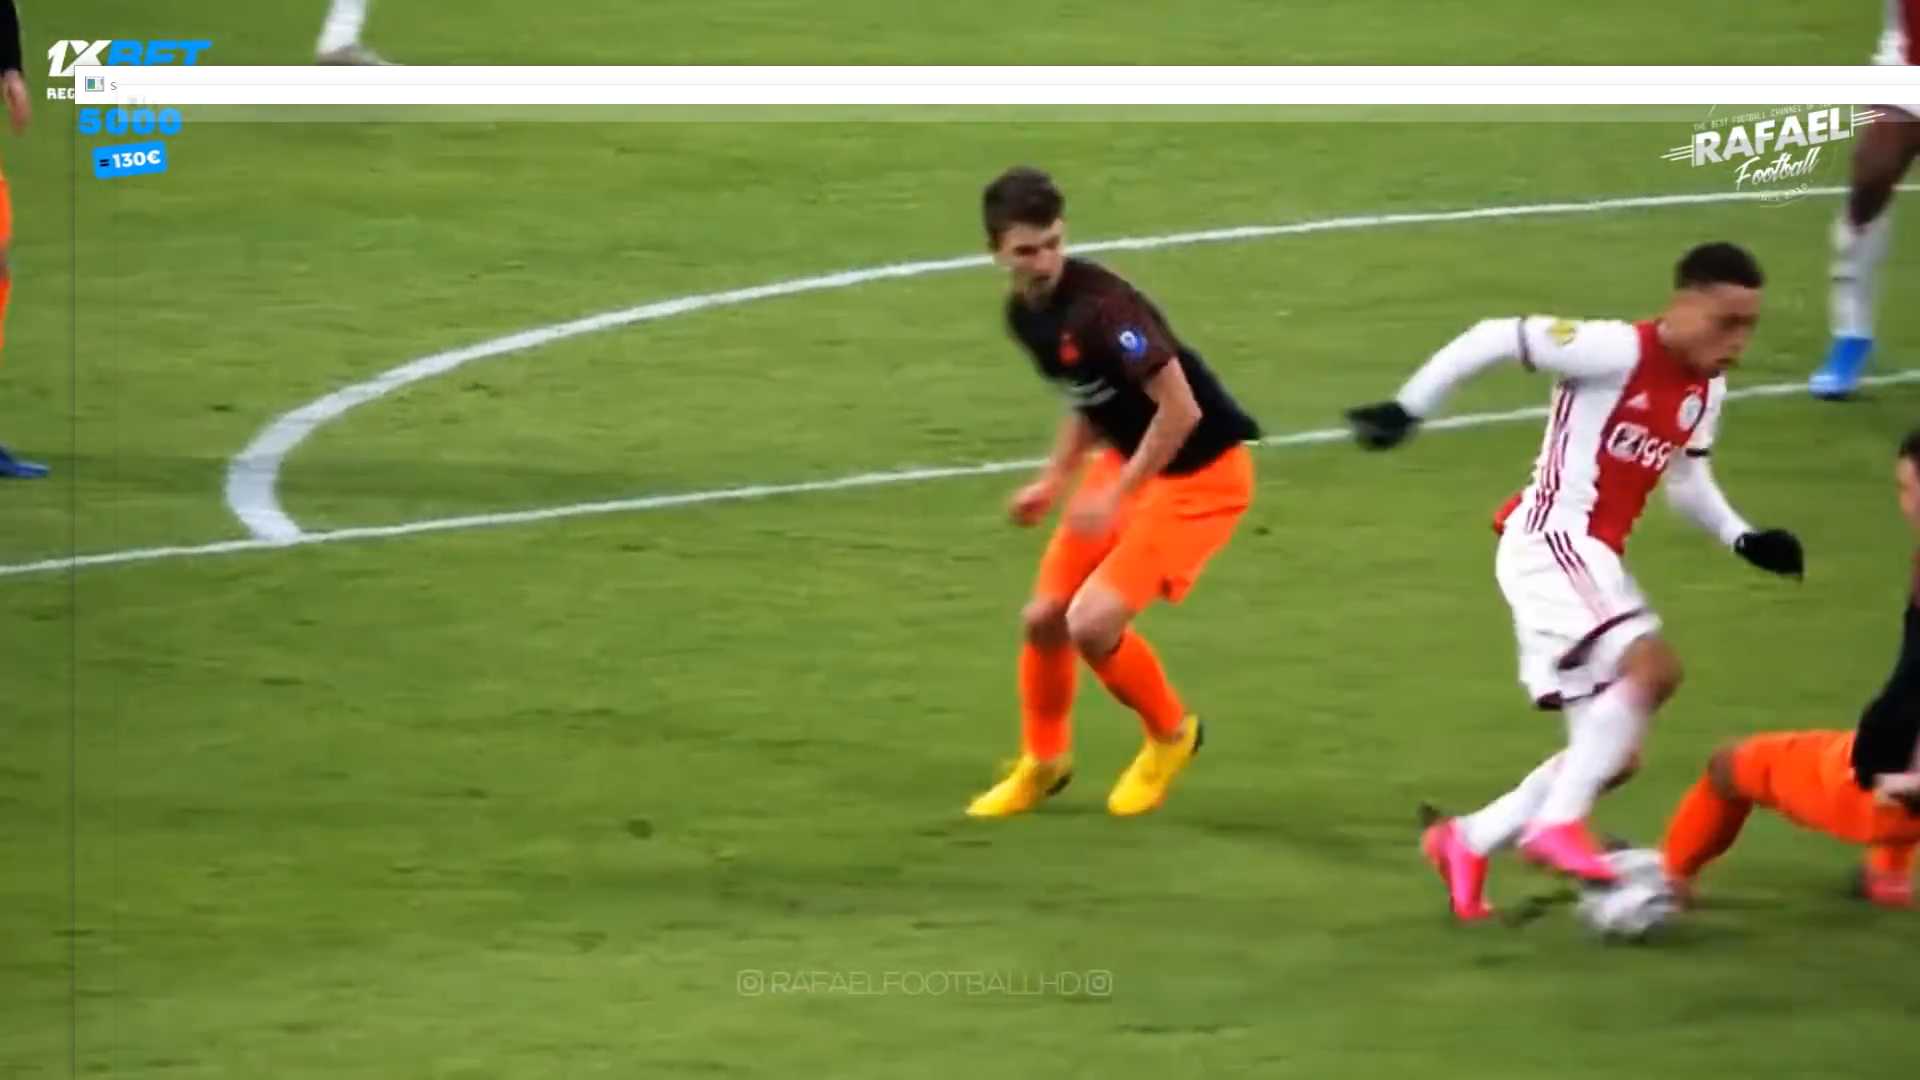ft: (1586, 844, 1684, 945)
